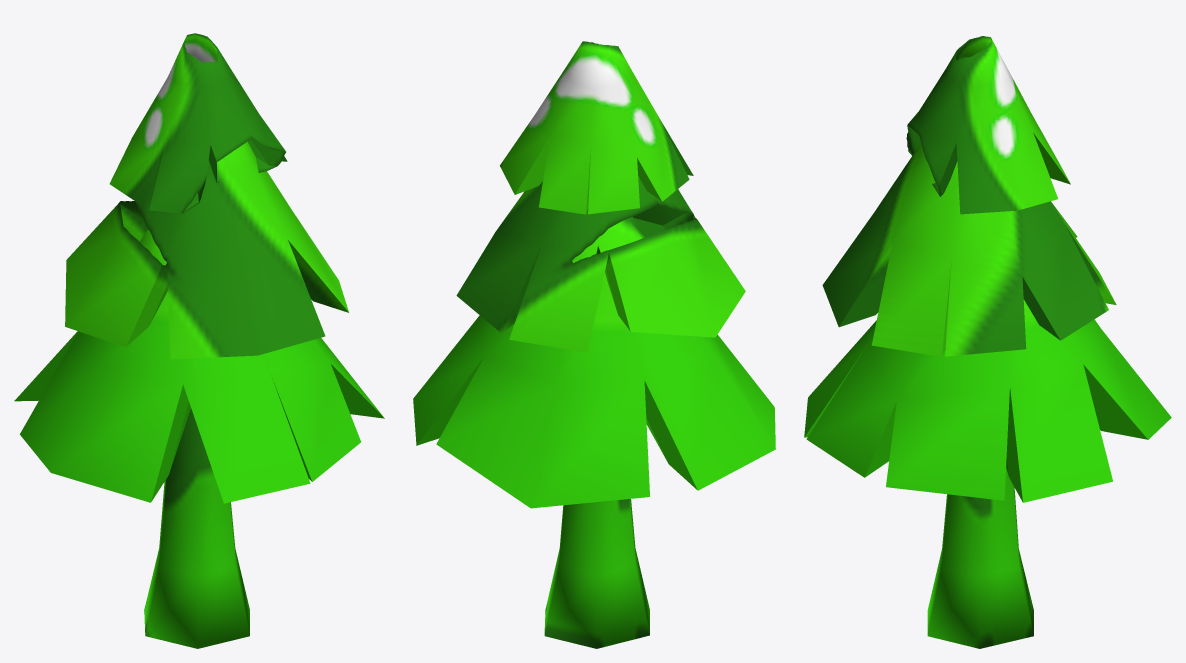
File: Tree_02.FBX
3 views of the same model, side by side, from view 1: azimuth 30°, elevation 25°; view 2: azimuth 150°, elevation 25°; view 3: azimuth 270°, elevation 25° (orthographic).
Parts seen in each view (by area): view 1: Tree_02; view 2: Tree_02; view 3: Tree_02.
Boxes of the visible parts, x1,y1,x2,y2 form: Tree_02: (14, 33, 384, 648); Tree_02: (413, 41, 775, 648); Tree_02: (804, 36, 1171, 648).
Bounding box in the file's own units: 175 × 172 × 314.
